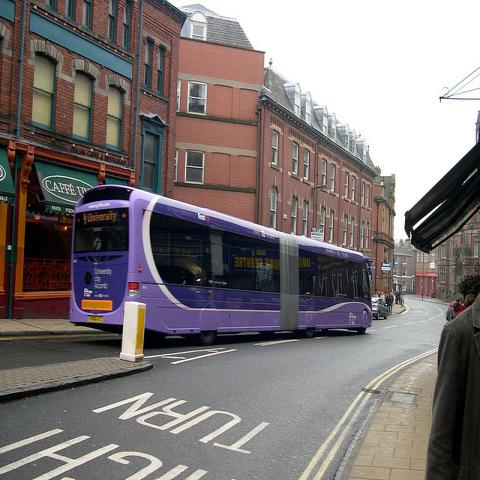bus: (64, 184, 374, 345)
car: (372, 298, 388, 320)
